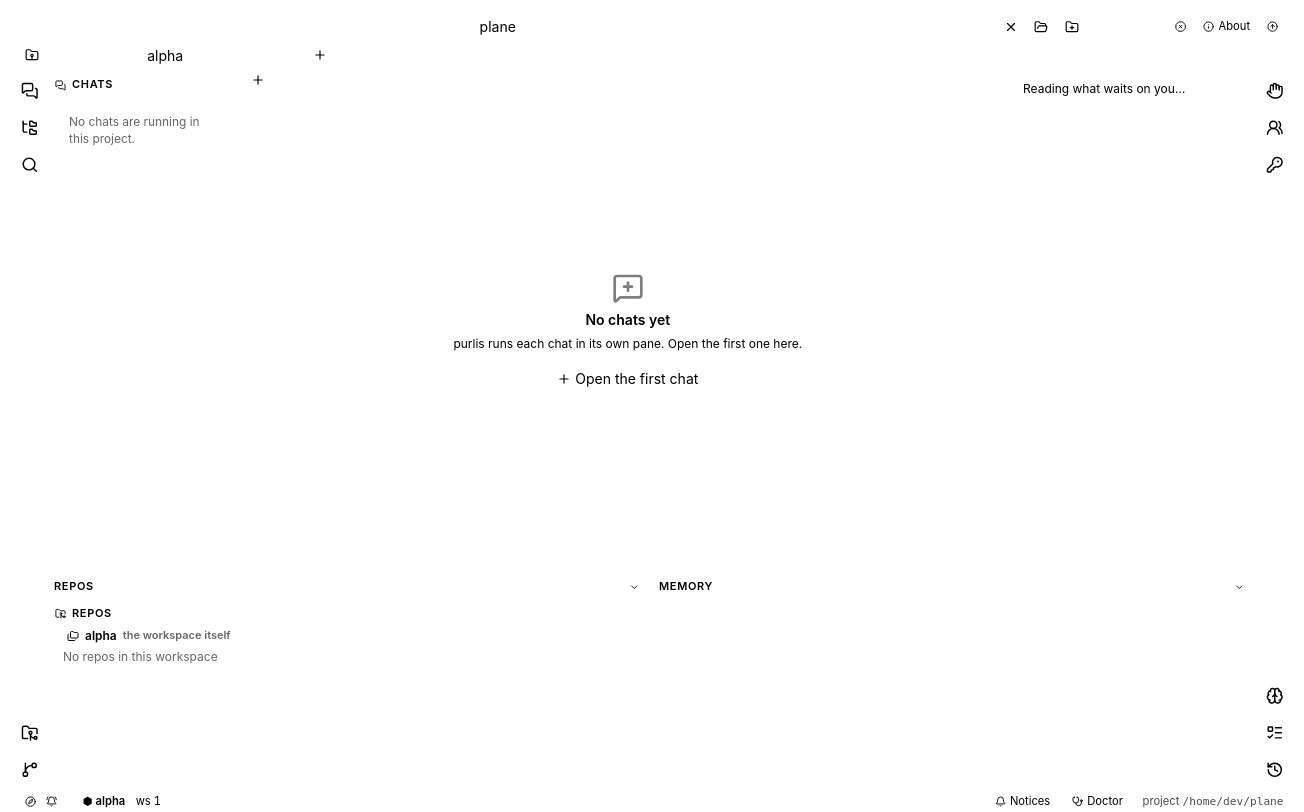
Test: Read again with the explorer hidden (#1244) › is on the refusal line's menu, and reads the workspace again
Expected: the panel "Chats" is shown, 55,77 -> 200,146
Click the tab named "Changes" at (30, 770), box 12,752 -> 47,787
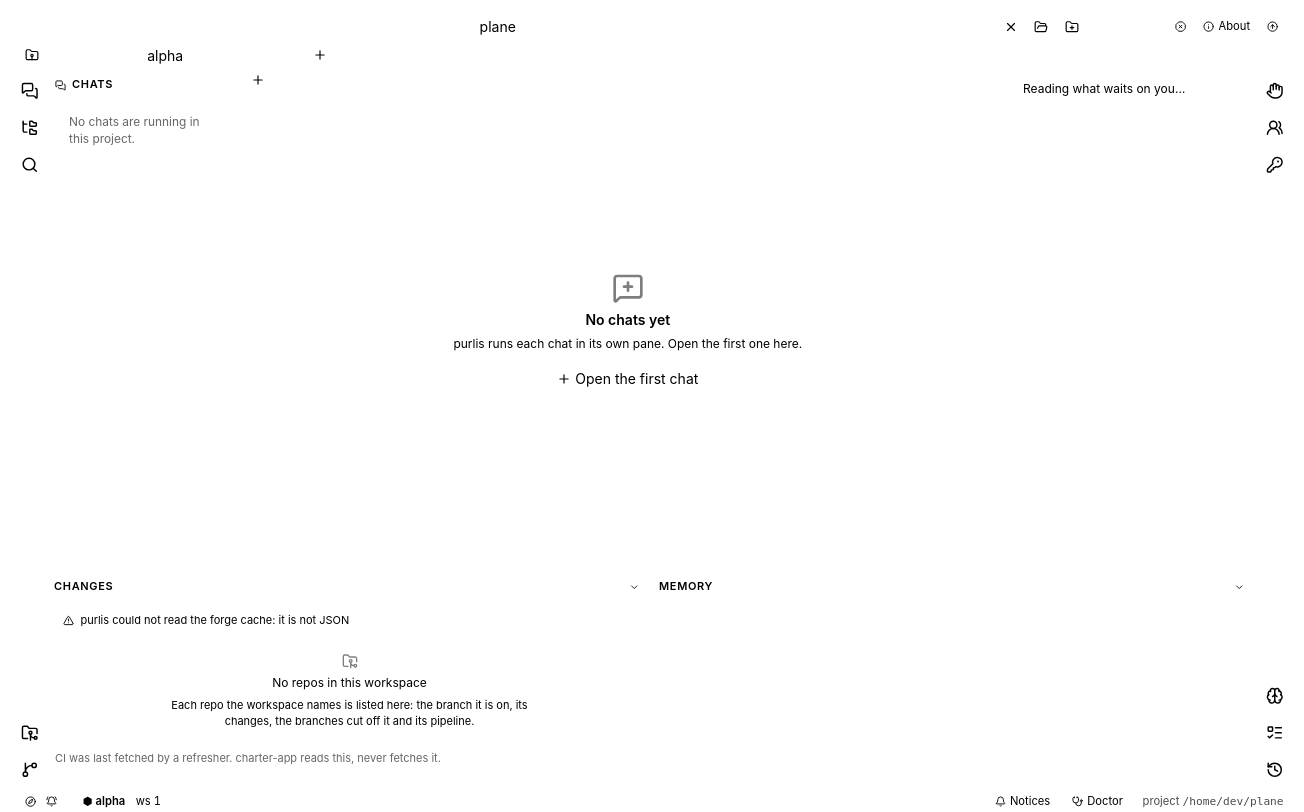
Expected: the navigation bar "Repos alpha the workspace itself No repos in this workspace" is gone
Right-click the text "purlis could not read the forge cache: it is not JSON" at (215, 621), box 80,613 -> 349,628
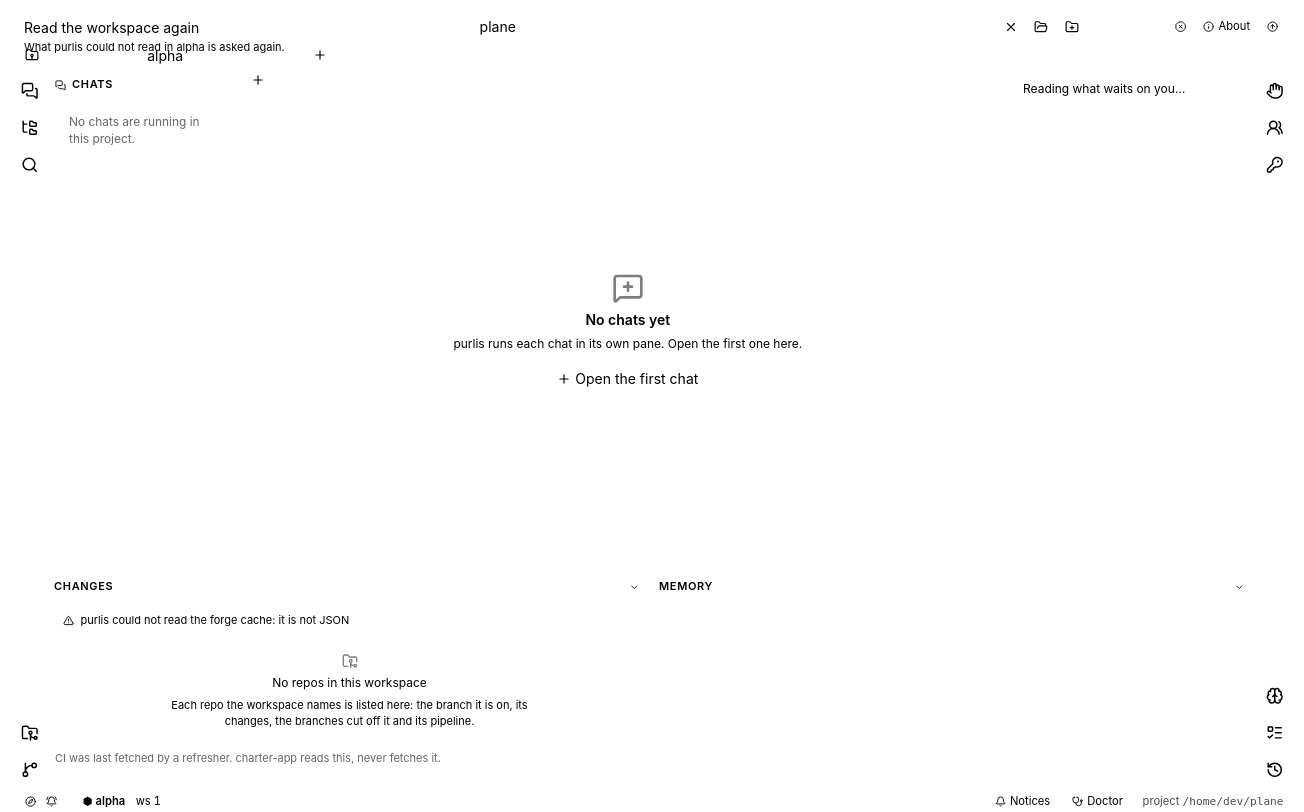
Click the menu item "Read the workspace again" at (154, 36), box 24,19 -> 285,54
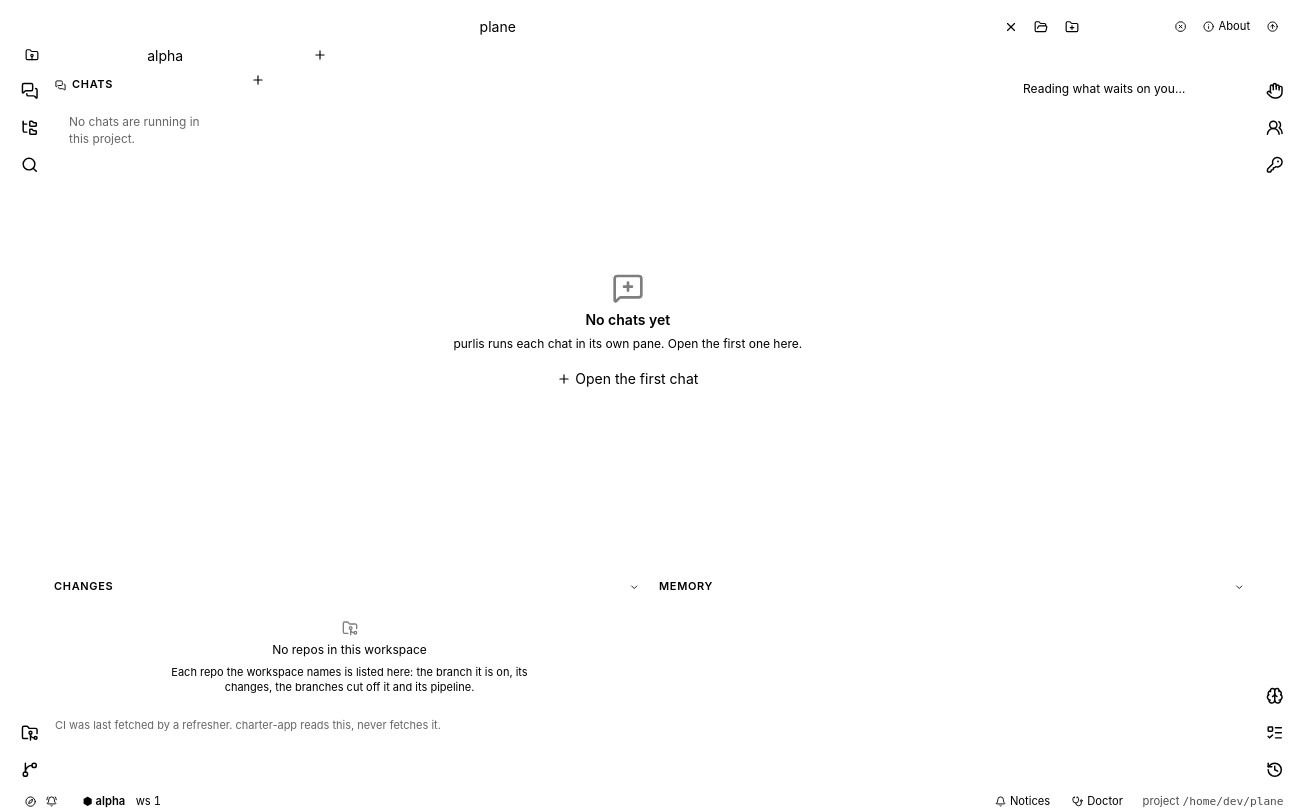
Expected: the text "purlis could not read the forge cache: it is not JSON" is gone
